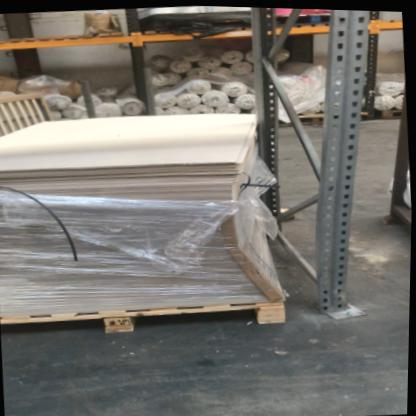vertical_damage: (315, 244, 372, 325)
